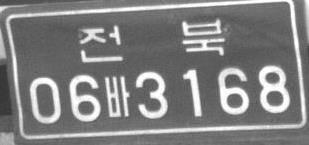0: (28, 76, 61, 124)
1: (178, 68, 208, 117)
3: (135, 70, 168, 119)
6: (68, 74, 102, 121), (217, 66, 249, 115)
8: (257, 65, 291, 113)
바: (103, 75, 130, 117)
전북_D: (78, 18, 225, 63)
